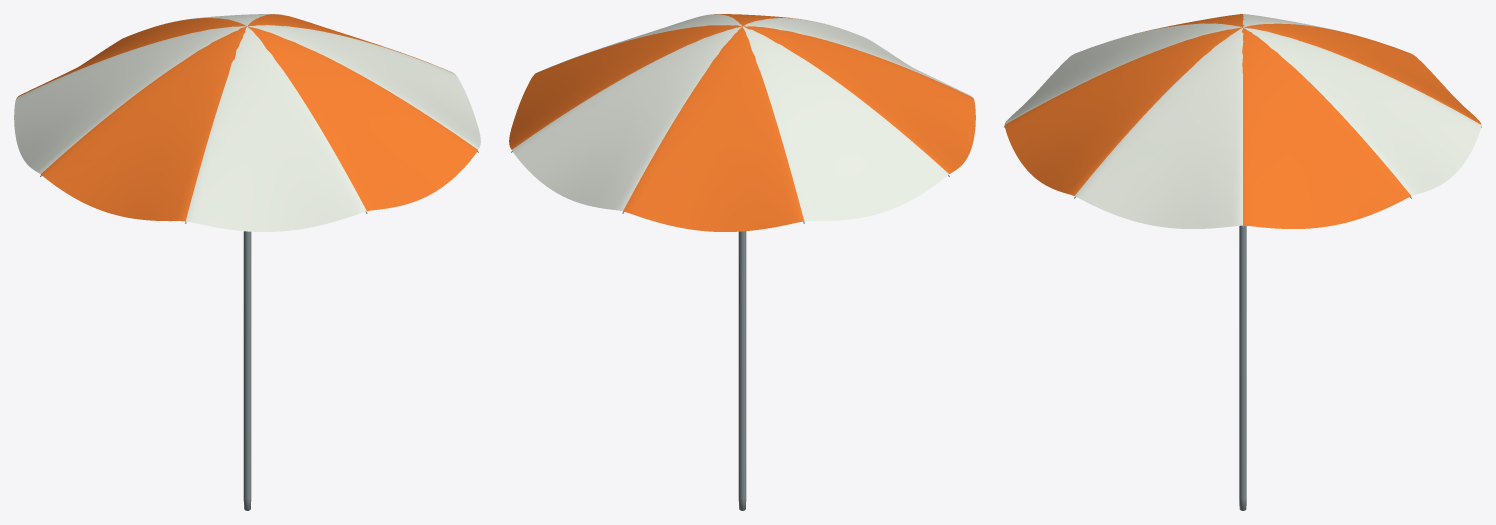
The model's file is Beach_umbrella_LOD2.glb.
3 views of the same model, side by side, from view 1: azimuth 30°, elevation 25°; view 2: azimuth 150°, elevation 25°; view 3: azimuth 270°, elevation 25° (orthographic).
Visible parts, largest first — view 1: Beach_umbrella_GameMesh; view 2: Beach_umbrella_GameMesh; view 3: Beach_umbrella_GameMesh.
Part boxes in pixels (x1,y1,x2,y2): Beach_umbrella_GameMesh: (14,14,480,510); Beach_umbrella_GameMesh: (509,14,975,510); Beach_umbrella_GameMesh: (1004,14,1481,510).
Size of the model in its own units: 2.2 by 2.45 by 2.2.
